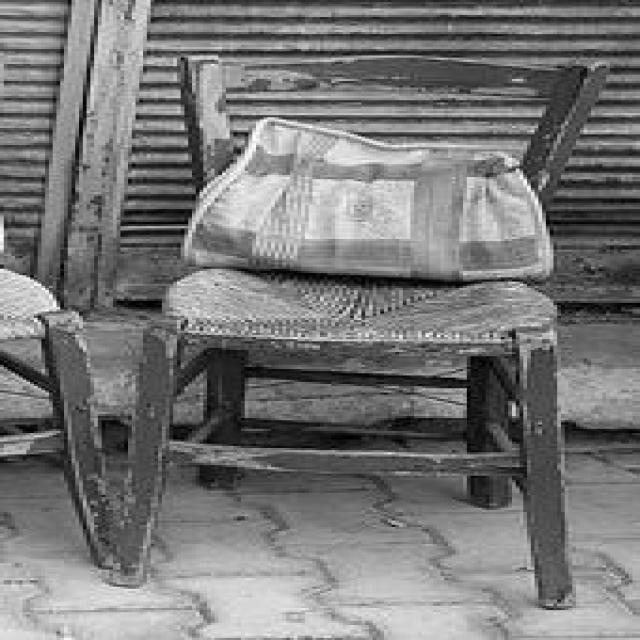chair: (124, 36, 609, 608)
